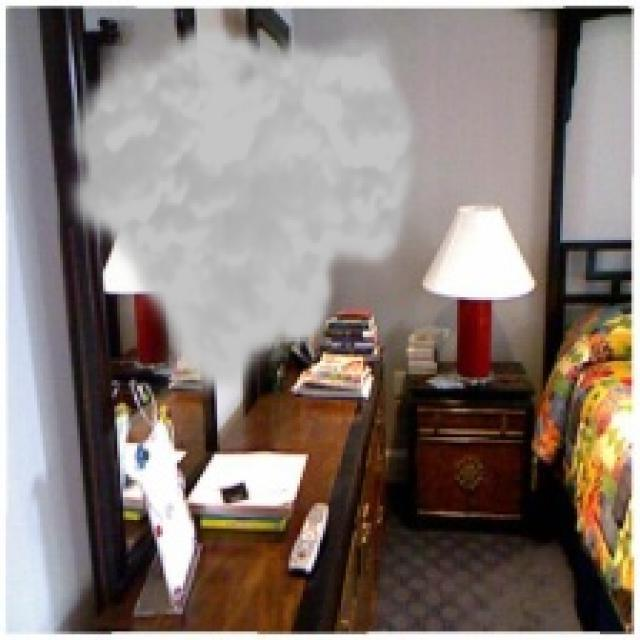Smoke: (57, 20, 426, 403)
